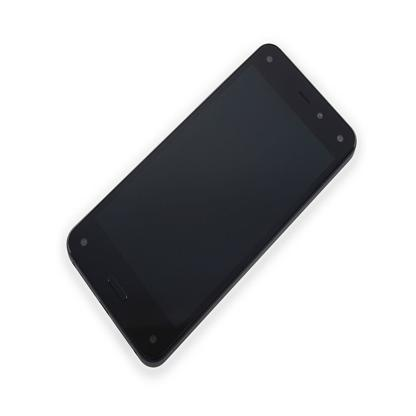not trash: (62, 40, 358, 371)
